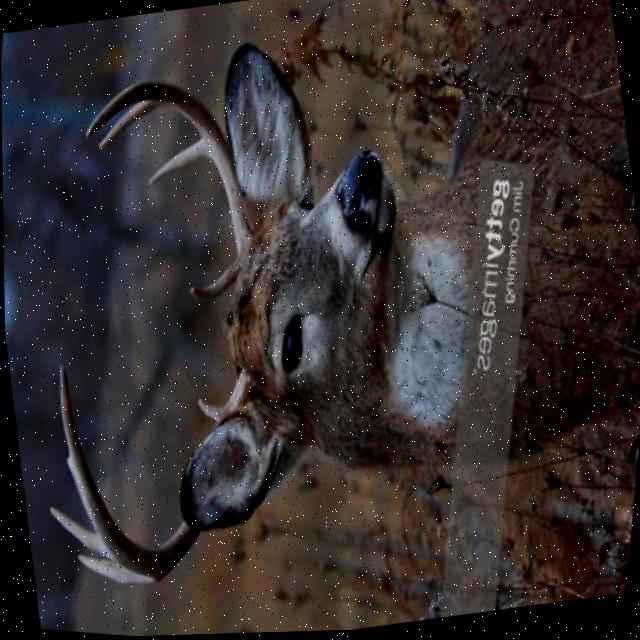L-G1: (195, 398, 222, 420)
L-G2: (74, 553, 154, 585)
L-G3: (46, 504, 105, 557)
R-F: (83, 79, 252, 264)
R-G1: (187, 256, 240, 300)
R-G2: (146, 138, 210, 185)
